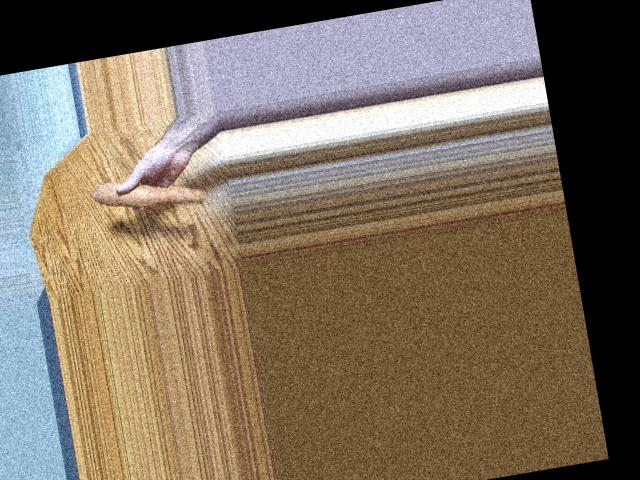sweet_potato: (94, 176, 205, 215)
